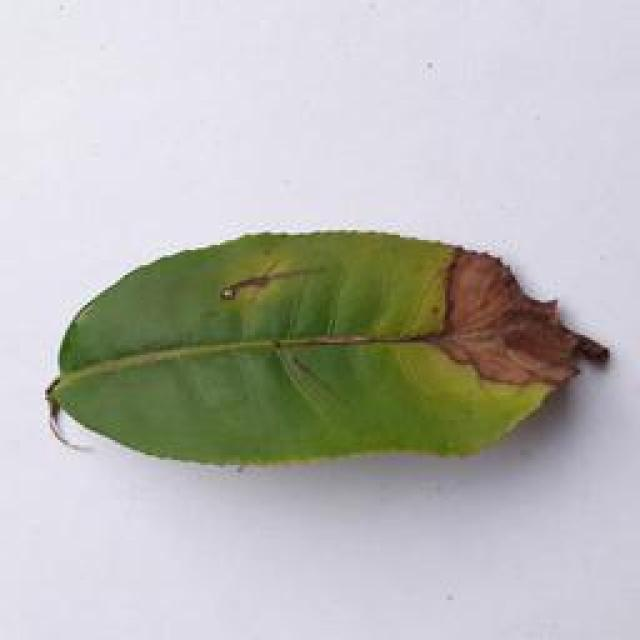Brown Blight: (35, 218, 619, 490)
